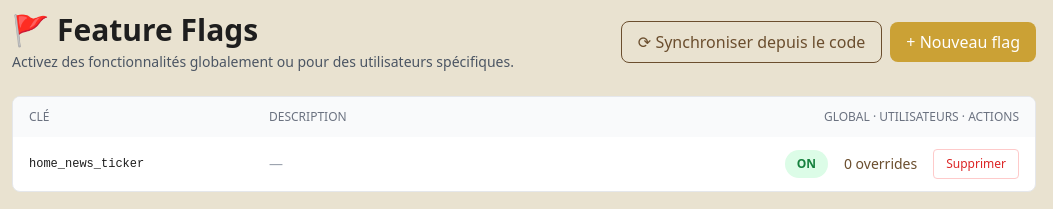
AdminFeatureFlagsPage — utilisable sur mobile › supprime un flag depuis sa ligne après confirmation
Click the button "Supprimer".
click(976, 164)  # box [933, 149, 1019, 179]
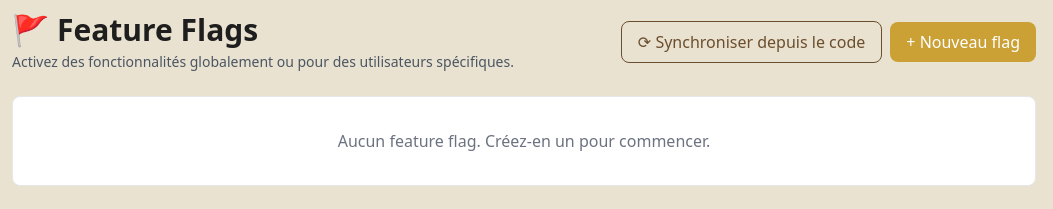
Check: the list item with test id "flag-row-home_news_ticker" is gone
